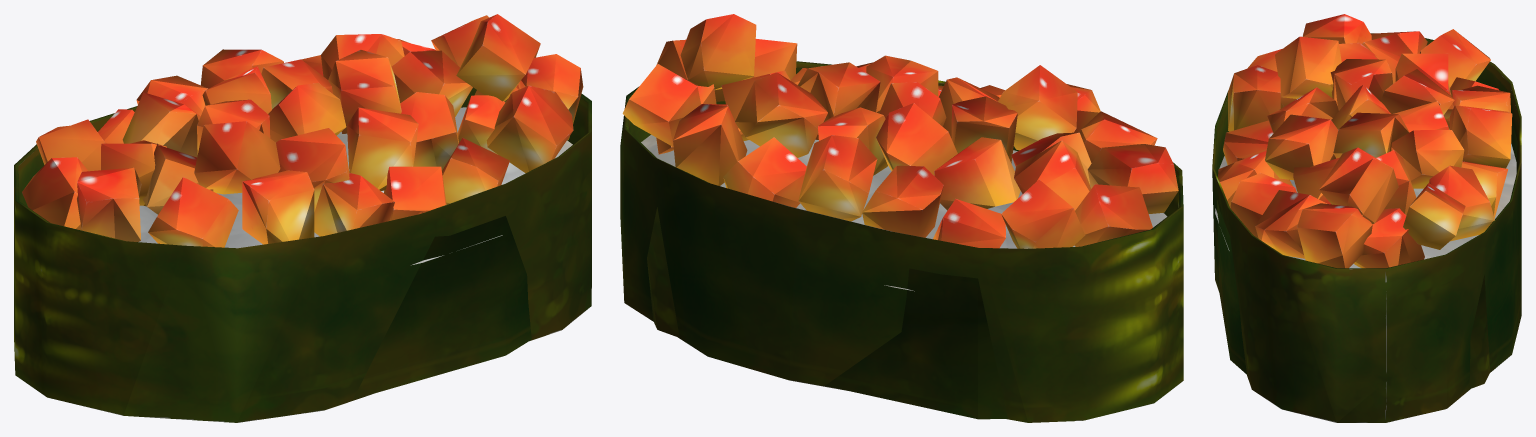
Rendered from sushi01.obj.
The picture shows the model from 3 angles, left to right: view 1: azimuth 30°, elevation 25°; view 2: azimuth 150°, elevation 25°; view 3: azimuth 270°, elevation 25°; orthographic projection. The views are drawn at different scales.
Visible parts, largest first — view 1: Mesh; view 2: Mesh; view 3: Mesh.
Part boxes in pixels (bbox=[...]): Mesh: bbox=[14, 14, 591, 422]; Mesh: bbox=[620, 14, 1183, 422]; Mesh: bbox=[1212, 14, 1521, 422].
Size of the model in its own units: 3.52 by 1.66 by 1.96.
Materials: 1 (1 with a texture image).
